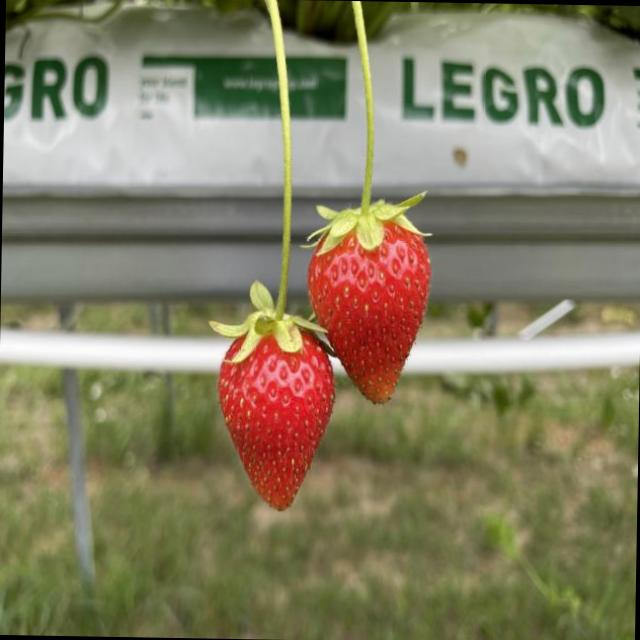stem: (211, 0, 315, 360), (307, 0, 428, 250)
strawberryR: (306, 222, 429, 399), (218, 330, 333, 507)
